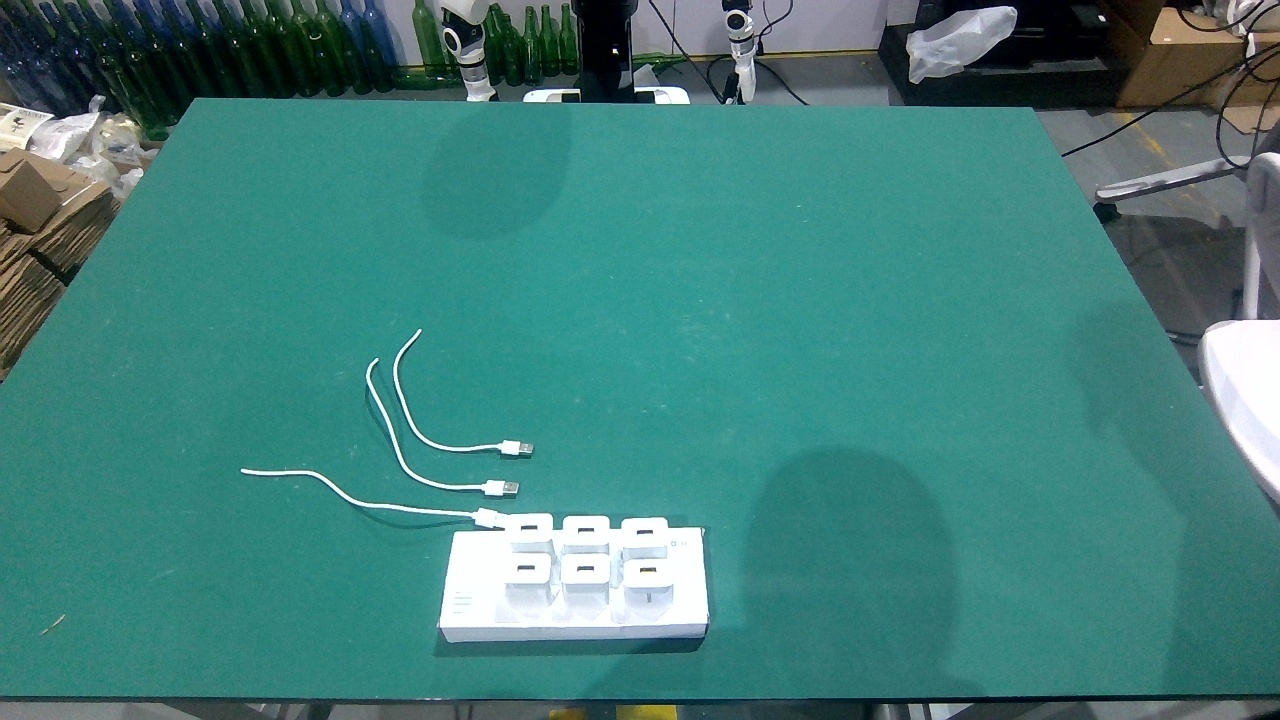usb_a_plug: (477, 437, 547, 460), (454, 505, 515, 531), (466, 478, 527, 500)
